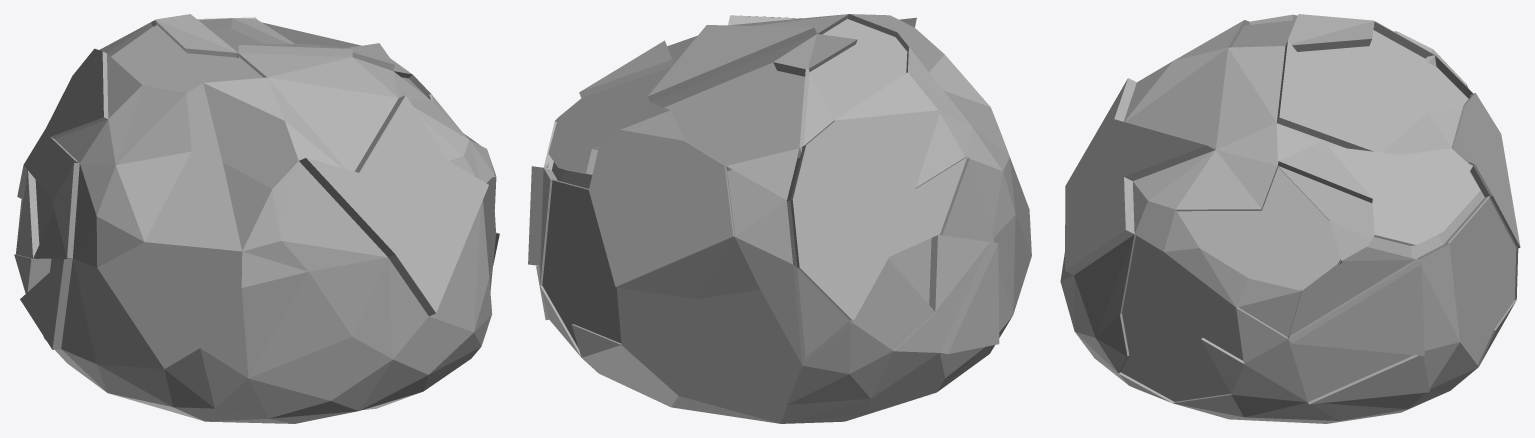
The model's file is rock.fbx.
3 views of the same model, side by side, from view 1: azimuth 30°, elevation 25°; view 2: azimuth 150°, elevation 25°; view 3: azimuth 270°, elevation 25° (orthographic). The views are drawn at different scales.
Parts seen in each view (by area): view 1: Rock; view 2: Rock; view 3: Rock.
Part boxes in pixels (box(x1,y1,x2,y2)): Rock: box(14, 14, 499, 423); Rock: box(528, 14, 1031, 423); Rock: box(1060, 14, 1520, 423).
Size of the model in its own units: 5.65 by 5.54 by 4.19.
